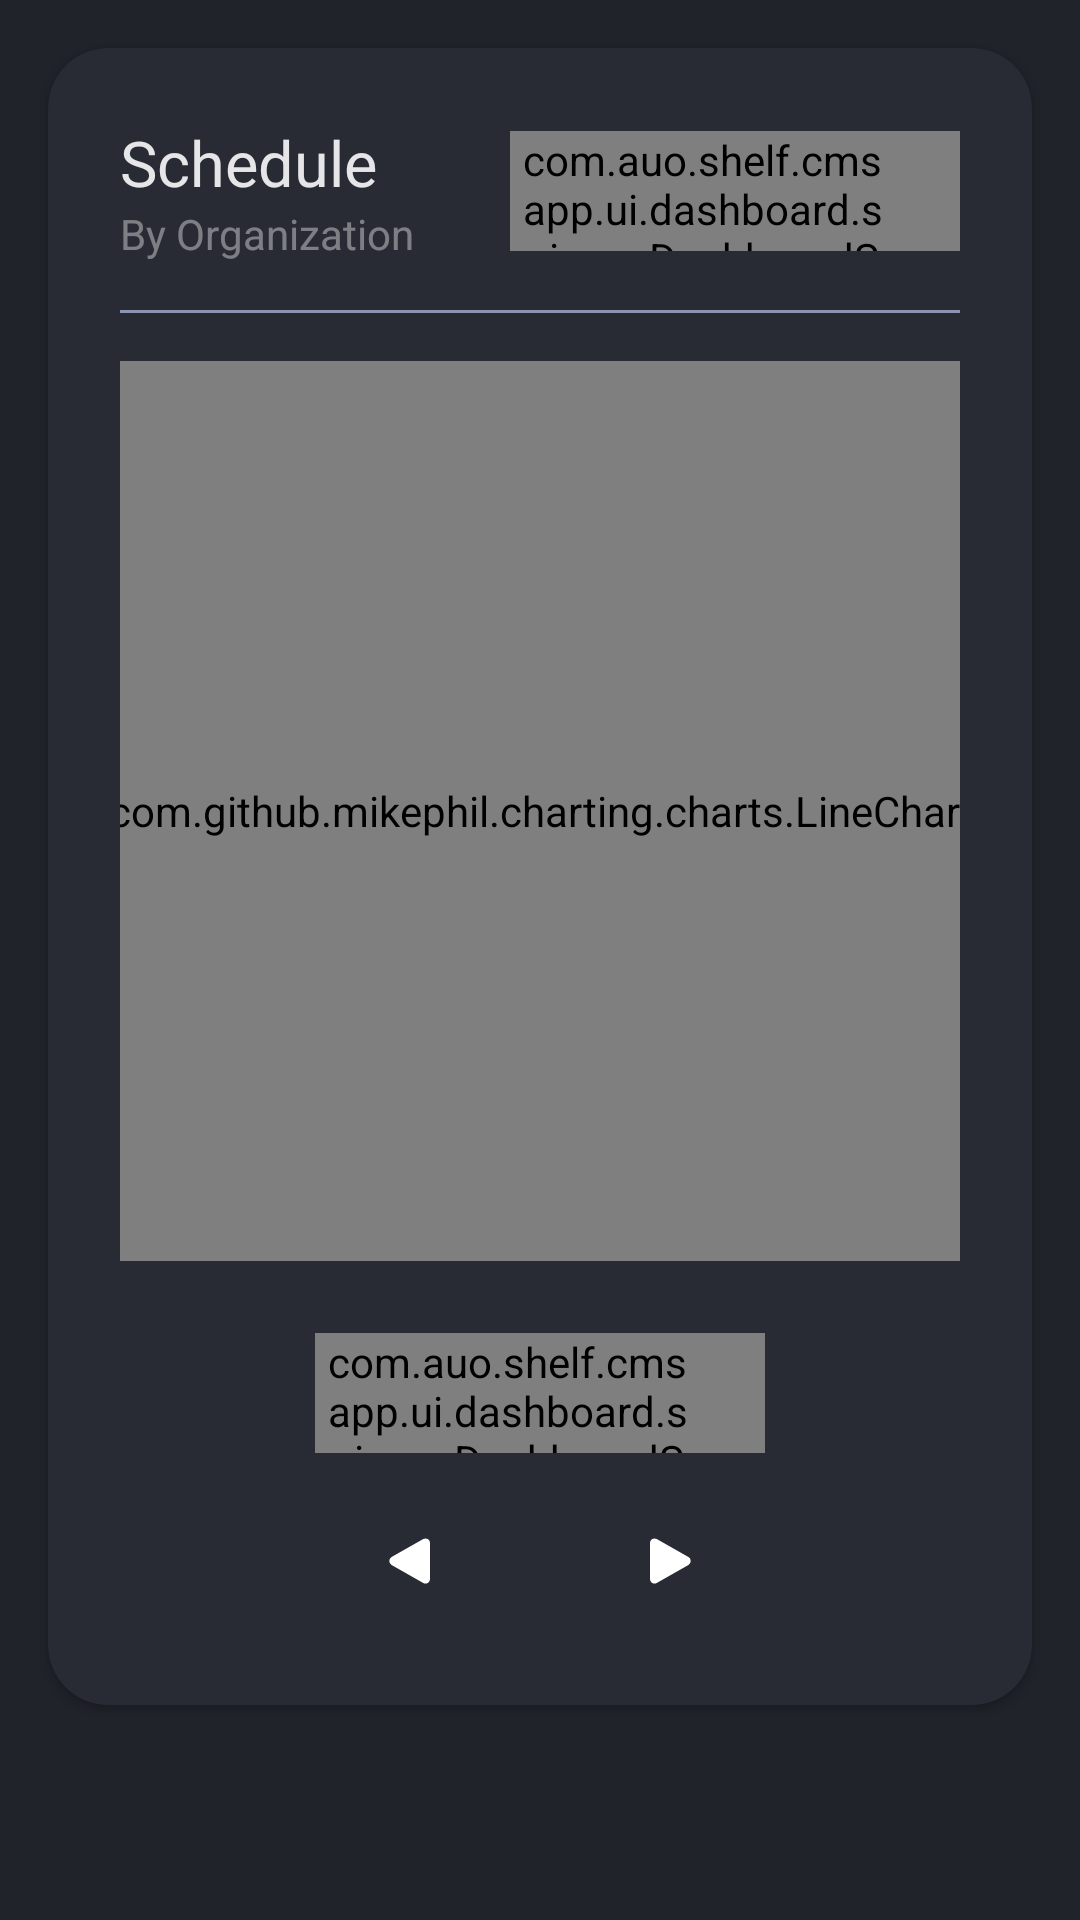

Locate icon controls on the screen. Image size 1080 x 1920, boxes as [x1, y1, x2, y2].
arrow left: [389, 1538, 430, 1584]
arrow right: [650, 1538, 691, 1584]
